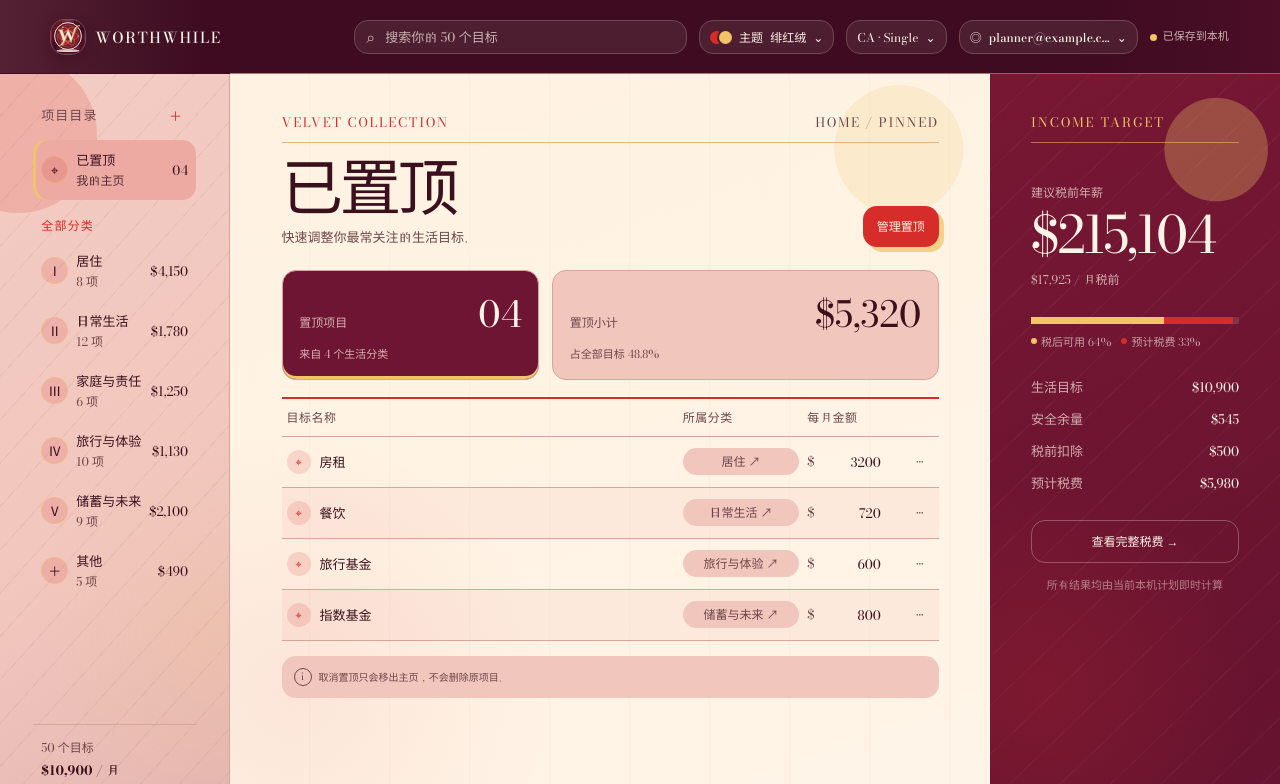
local-first planner › keeps a pending edit scoped to its account when the authenticated session switches
The width and height of the screenshot is (1280, 784).
Expected: the text "已保存到本机" is shown, [1150,30,1229,44]
Replace the text in the number field named "房租每月金额" with "4444" at (856, 462), box [814,451,898,473]
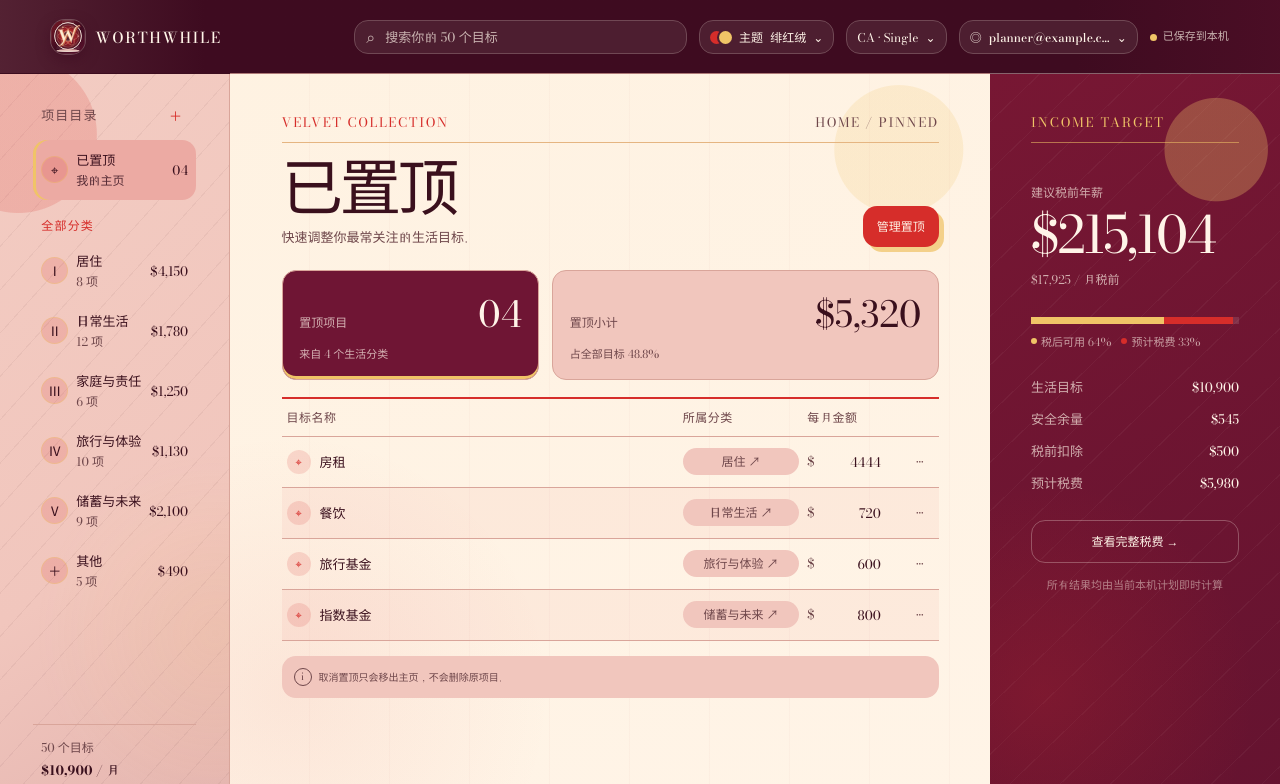
Leave the number field named "房租每月金额", box [814,451,898,473]
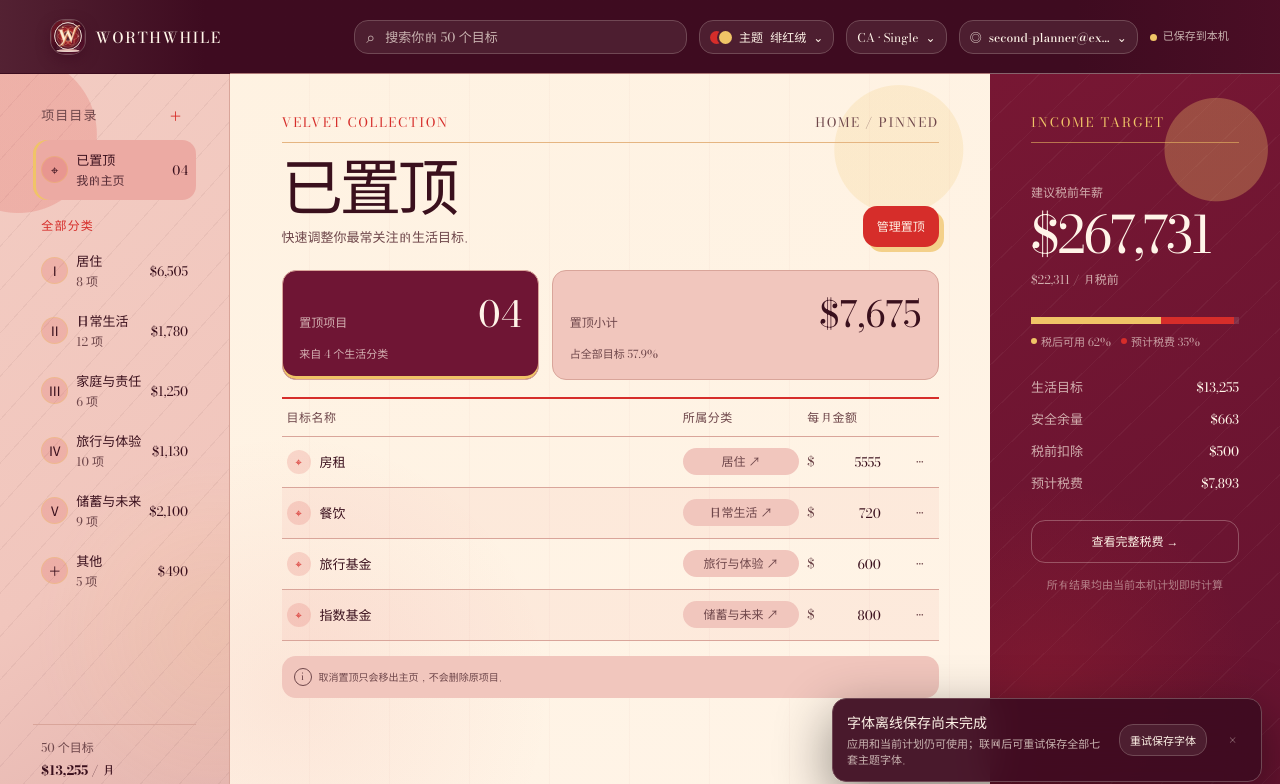
Now the number field named "房租每月金额" holds "5555", box [814,451,898,473]
